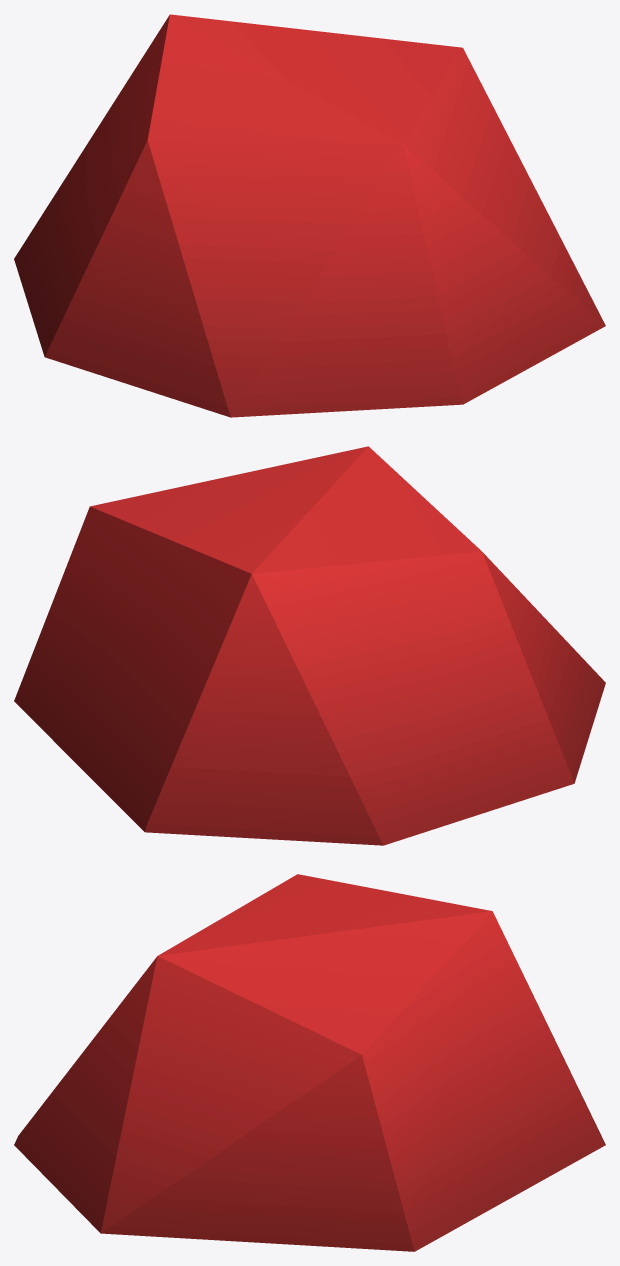
The model's file is PL002_Volcanic05.FBX.
The picture shows the model from 3 angles, top to bottom: view 1: azimuth 30°, elevation 25°; view 2: azimuth 150°, elevation 25°; view 3: azimuth 270°, elevation 25°; orthographic projection. The views are drawn at different scales.
Visible parts, largest first — view 1: PL002_Volcanic05; view 2: PL002_Volcanic05; view 3: PL002_Volcanic05.
Part boxes in pixels (x1,y1,x2,y2): PL002_Volcanic05: (14, 14, 605, 417); PL002_Volcanic05: (14, 446, 605, 845); PL002_Volcanic05: (14, 874, 605, 1251).
Size of the model in its own units: 132 by 56.5 by 143.
Materials: 1 (1 with a texture image).
